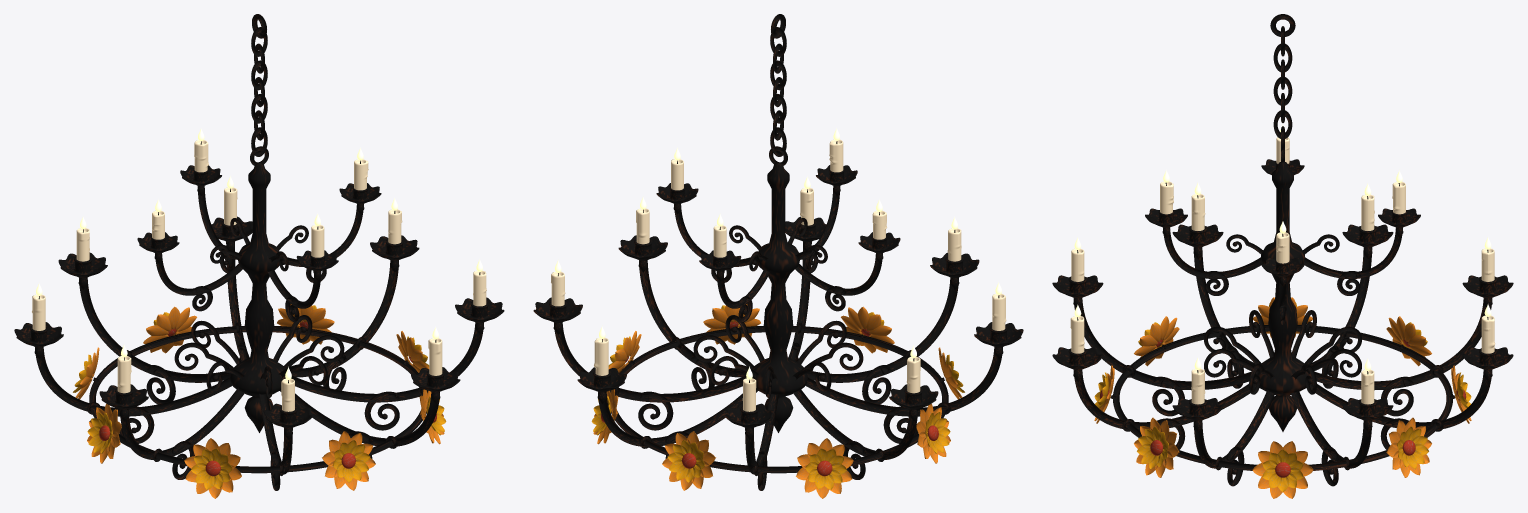
File: chandelier_hero.glb
3 views of the same model, side by side, from view 1: azimuth 30°, elevation 25°; view 2: azimuth 150°, elevation 25°; view 3: azimuth 270°, elevation 25° (orthographic).
Visible parts, largest first — view 1: chandelier_hero; view 2: chandelier_hero; view 3: chandelier_hero.
Part boxes in pixels (x1,y1,x2,y2): chandelier_hero: (14,14,504,498); chandelier_hero: (533,14,1023,498); chandelier_hero: (1052,14,1513,498).
Bounding box in the file's own units: 0.752 × 0.7591 × 0.752.
Materials: 4 (2 with a texture image).
